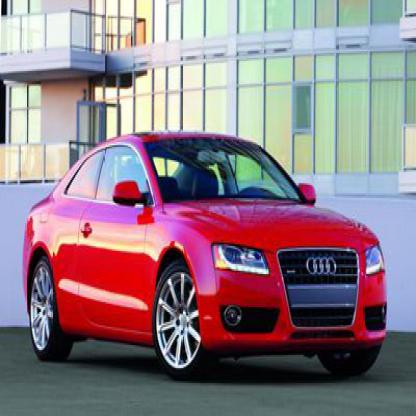Vehicle: (23, 128, 393, 390)
